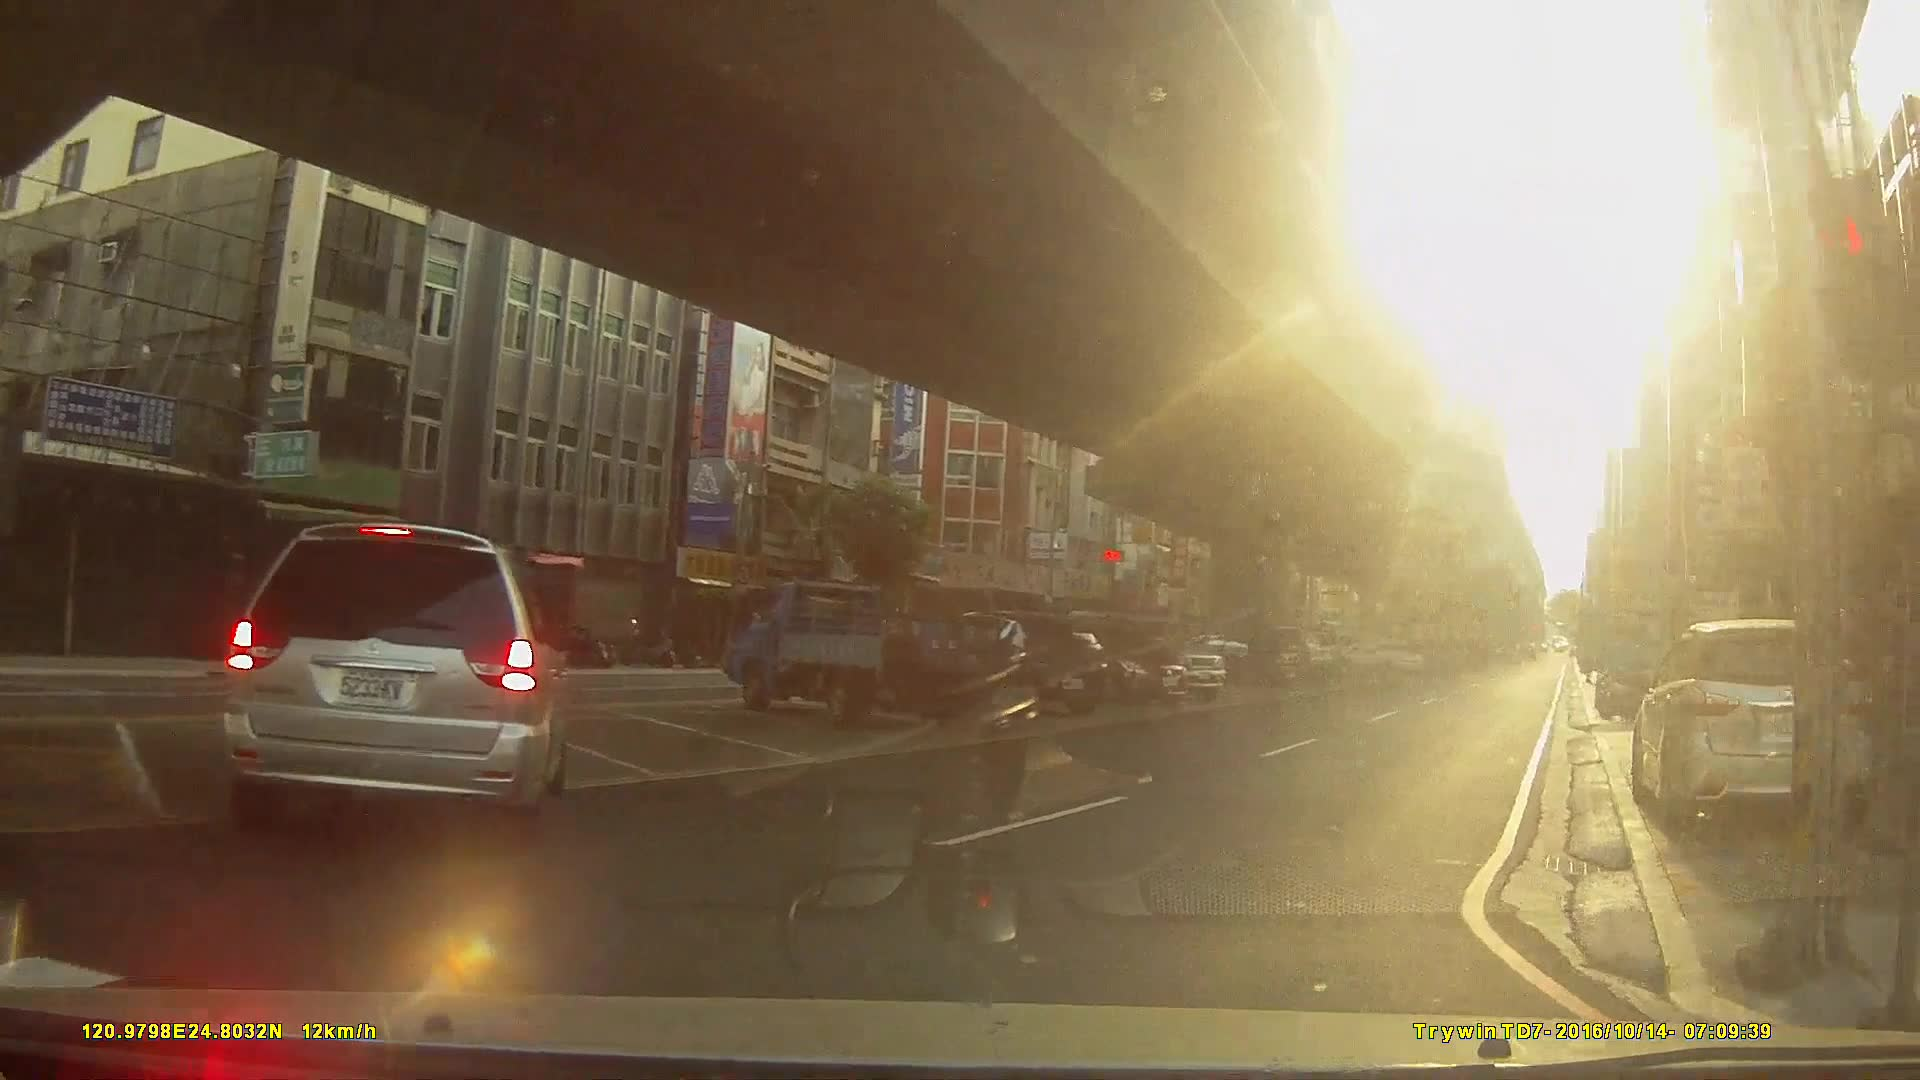vehicle: (216, 521, 566, 845), (1627, 617, 1882, 839), (721, 579, 992, 728), (924, 611, 1112, 719), (1025, 620, 1192, 707), (1156, 630, 1280, 684)
